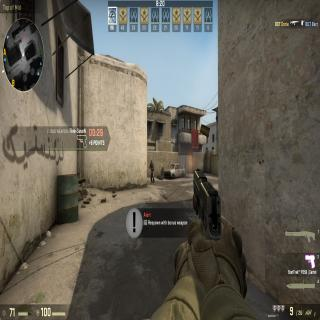T-Body: (149, 159, 155, 185)
T-Head: (150, 159, 153, 163)
